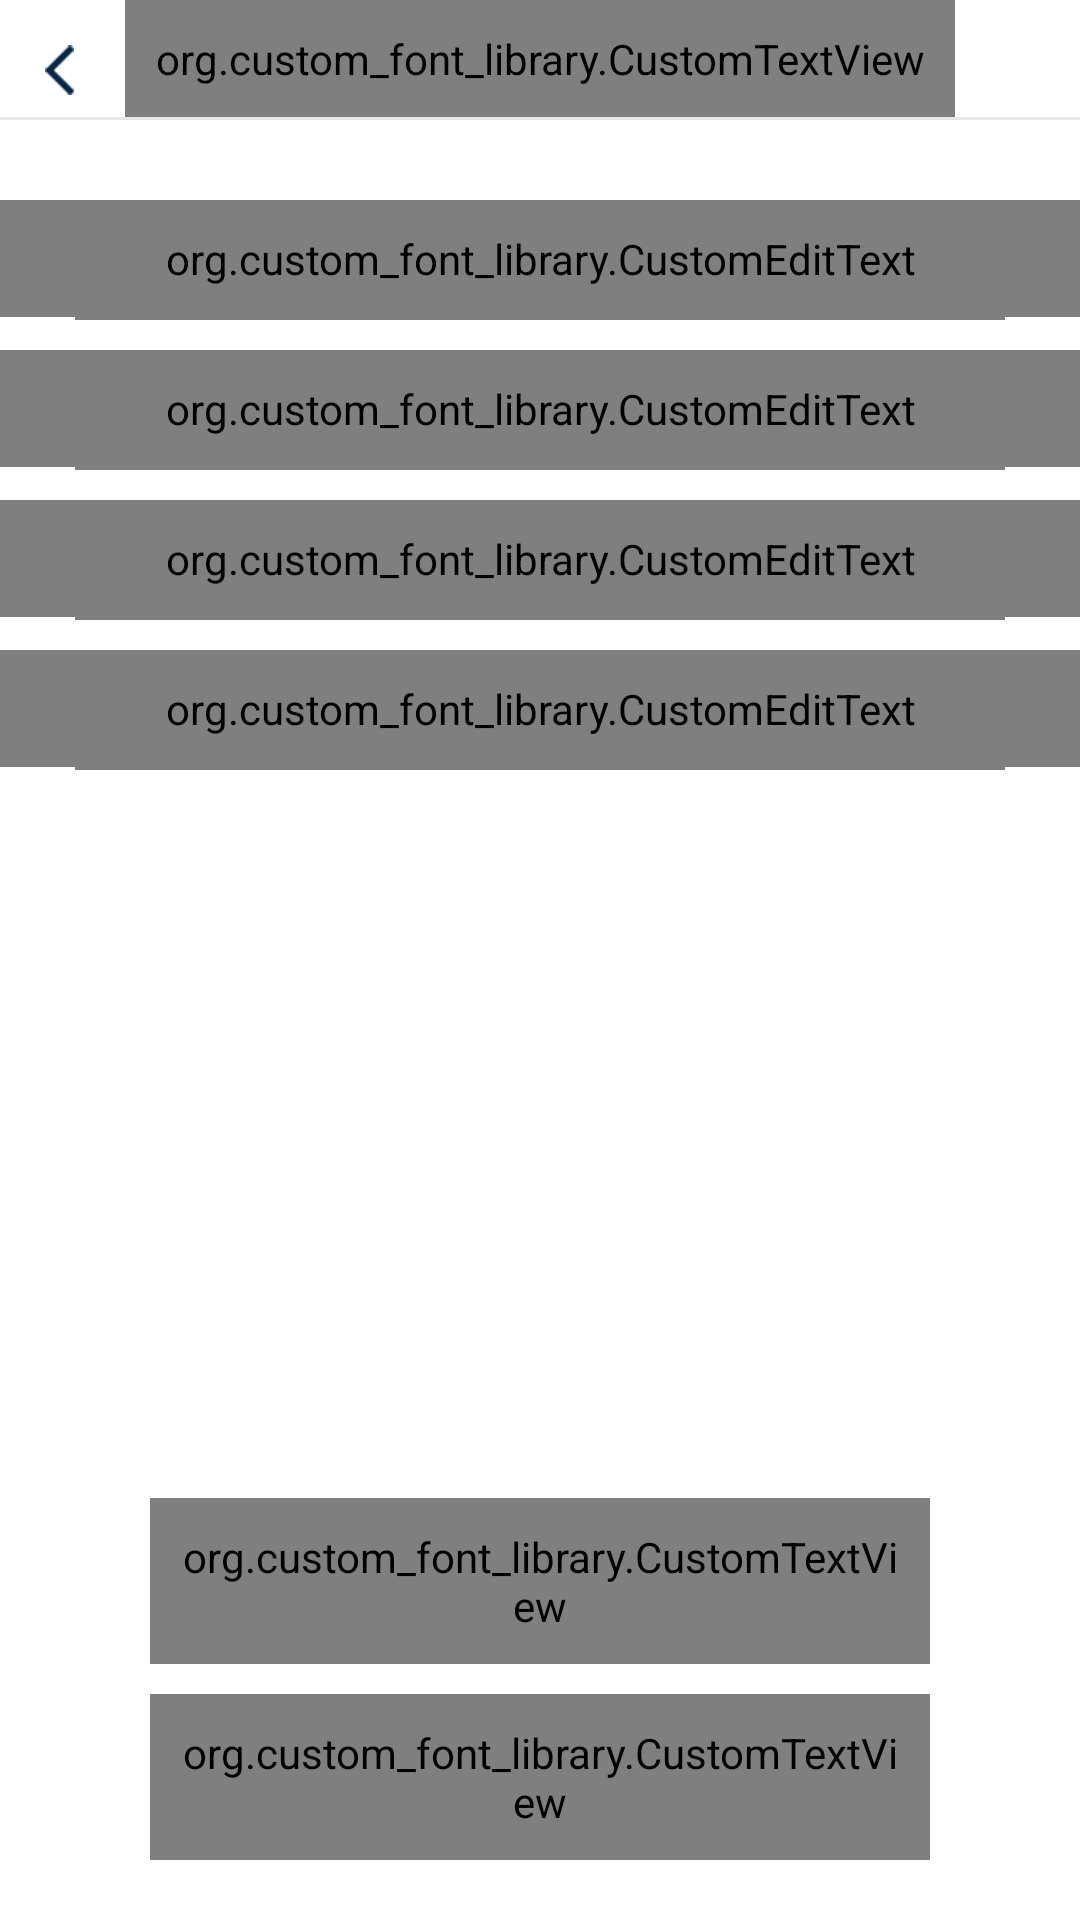

Icons on this 1080x1920 Android screen, each with its box as (x1, y1, x2, y2):
back arrow: (45, 45, 74, 95)
